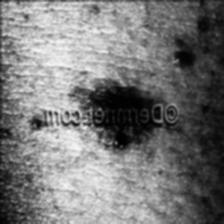Non-Cancerous Skin Condition: (67, 80, 157, 156), (164, 35, 200, 76)
